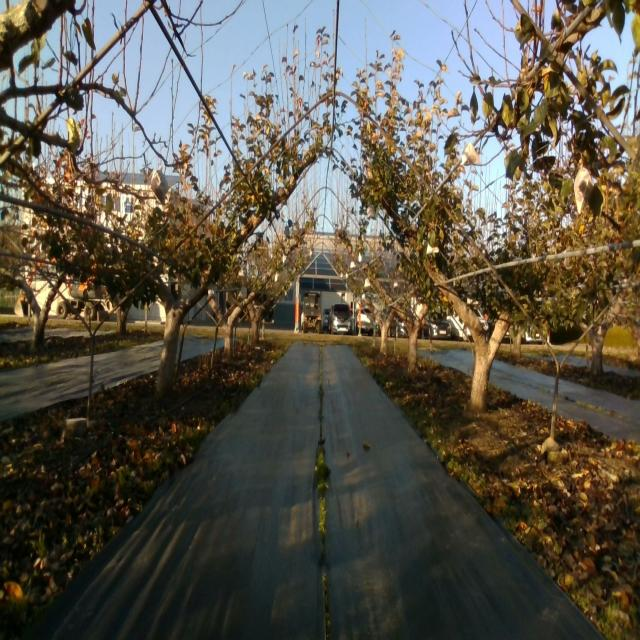pearbags: (573, 161, 594, 216), (151, 166, 167, 204), (461, 142, 480, 166)
